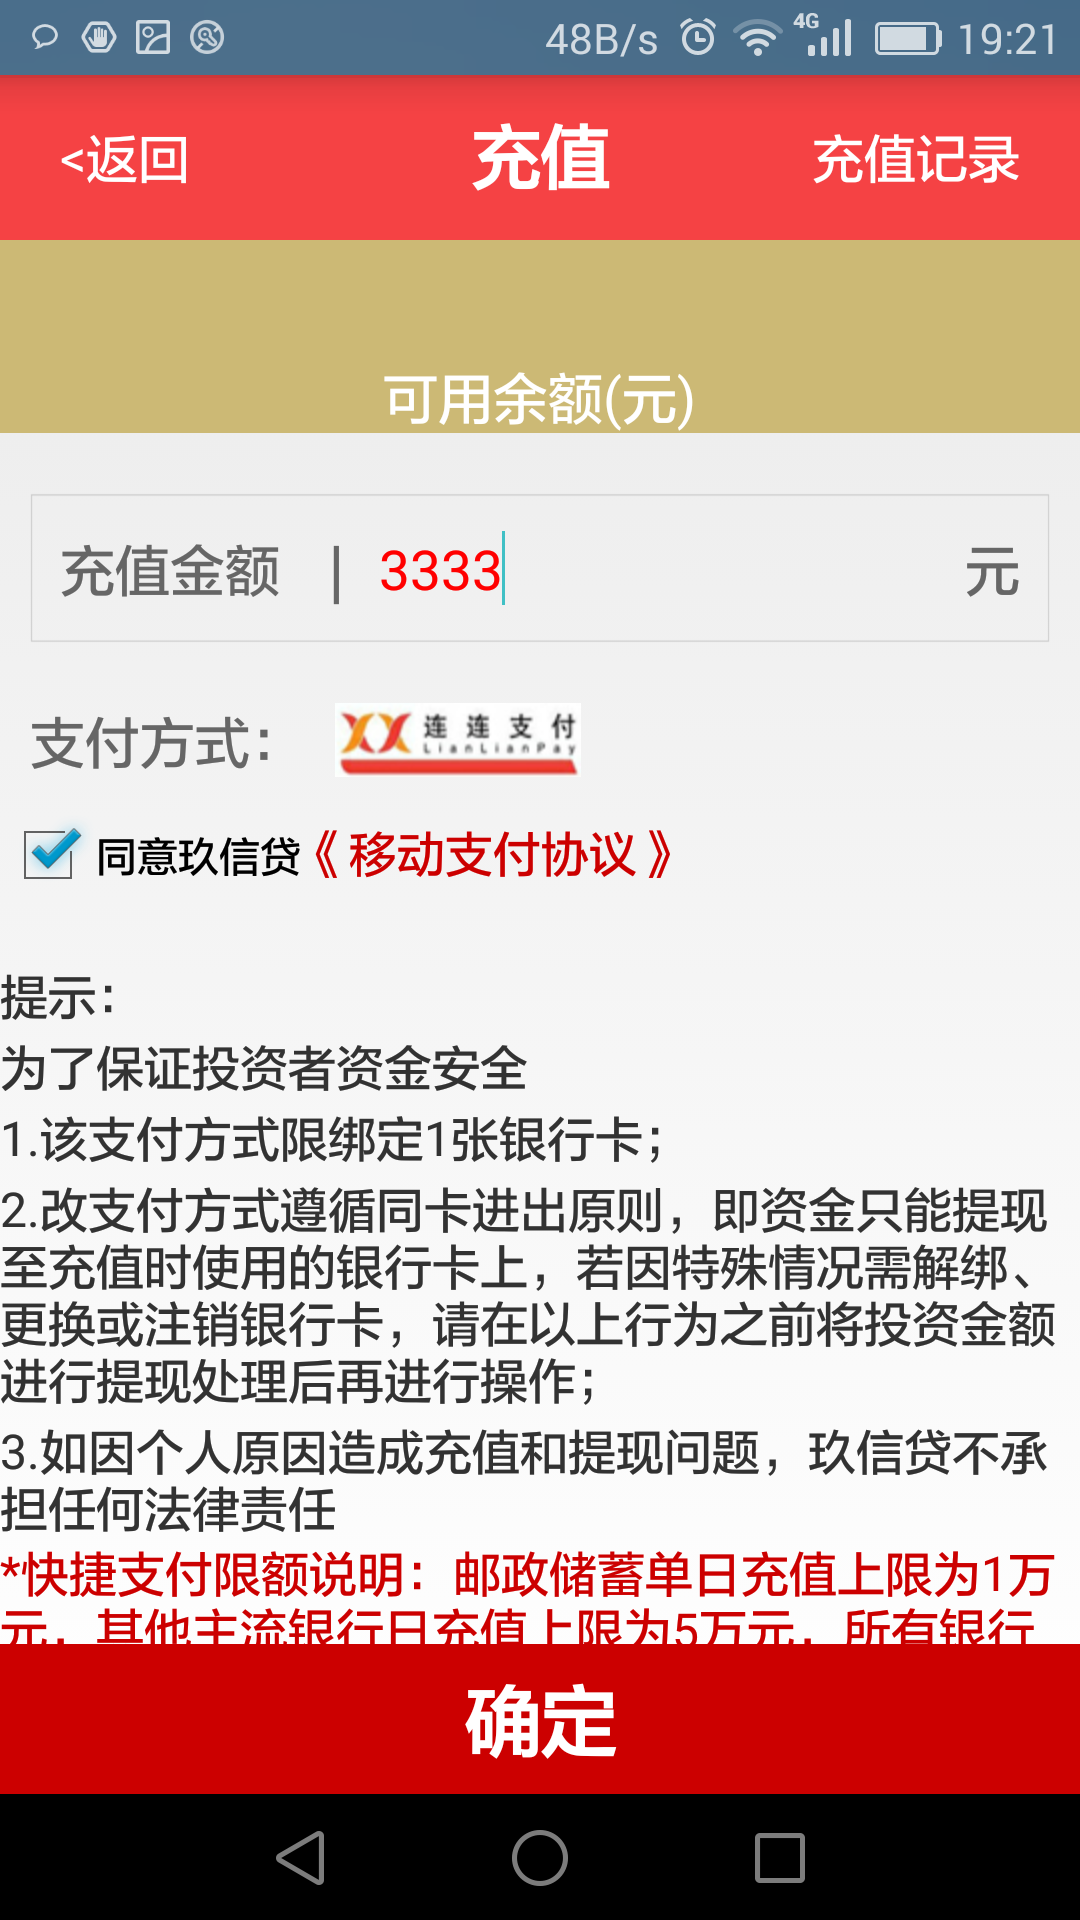checkbox: (8, 819, 684, 899)
textview: (3, 953, 1080, 1606), (20, 487, 1062, 653)
